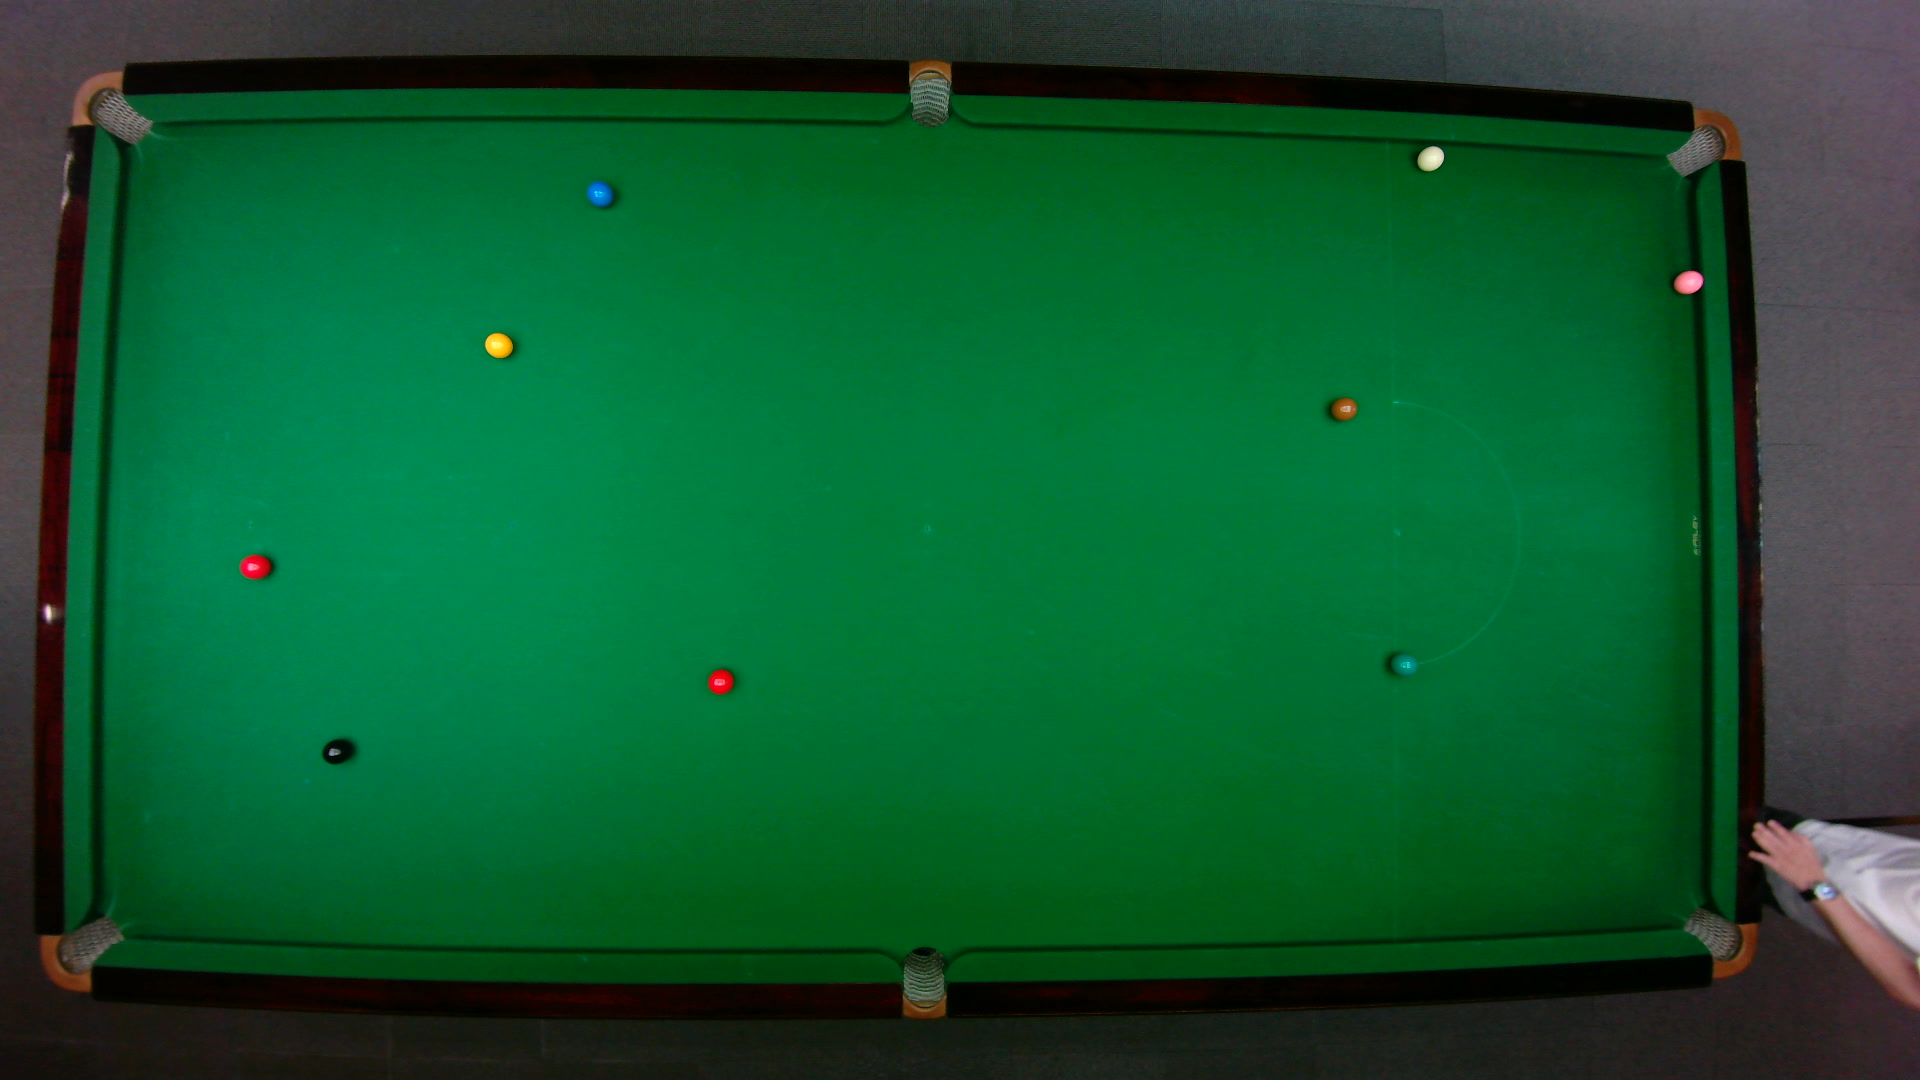bag: (37, 913, 127, 992), (69, 69, 152, 145), (1679, 905, 1758, 977), (1663, 107, 1741, 177), (901, 944, 944, 1021), (909, 57, 949, 128)
black: (320, 737, 352, 765)
blue: (585, 179, 613, 207)
brown: (1328, 396, 1358, 421)
green: (1387, 650, 1418, 676)
pink: (1671, 266, 1704, 295)
red: (237, 553, 272, 580), (705, 667, 735, 695)
white: (1414, 144, 1445, 171)
yellow: (483, 328, 513, 359)
zone: (1389, 398, 1519, 666)
